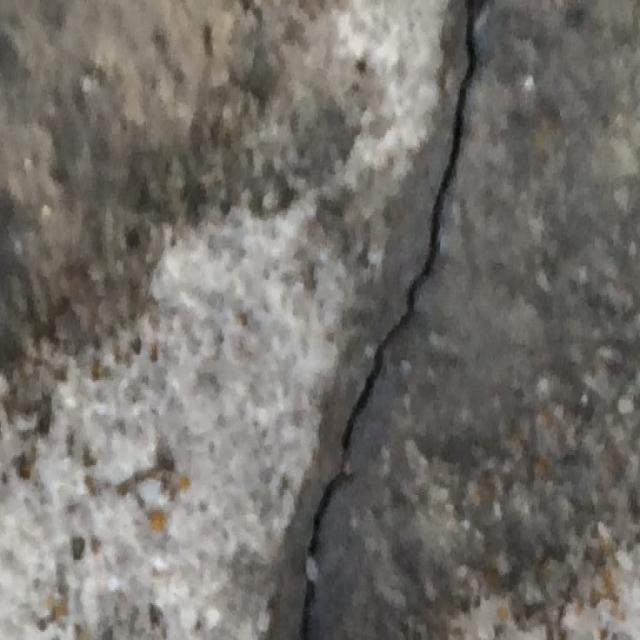Longitudinal: (297, 0, 489, 640)
